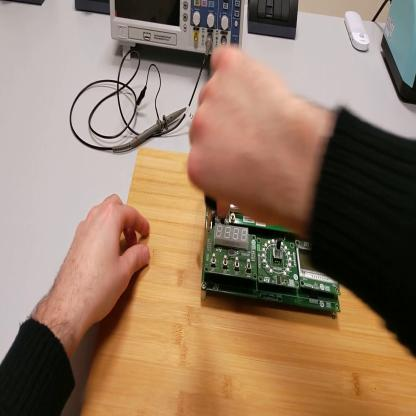hand: (187, 46, 309, 229), (56, 193, 151, 328)
low voltage board: (203, 205, 342, 313)
oscilloscope: (110, 2, 243, 68)
oscilloscope probe tip: (114, 106, 187, 152)
screwdriver-: (202, 202, 218, 283)
socket: (75, 2, 110, 18), (3, 2, 46, 9)
welder station: (384, 2, 416, 103)
working area: (81, 148, 416, 416)
